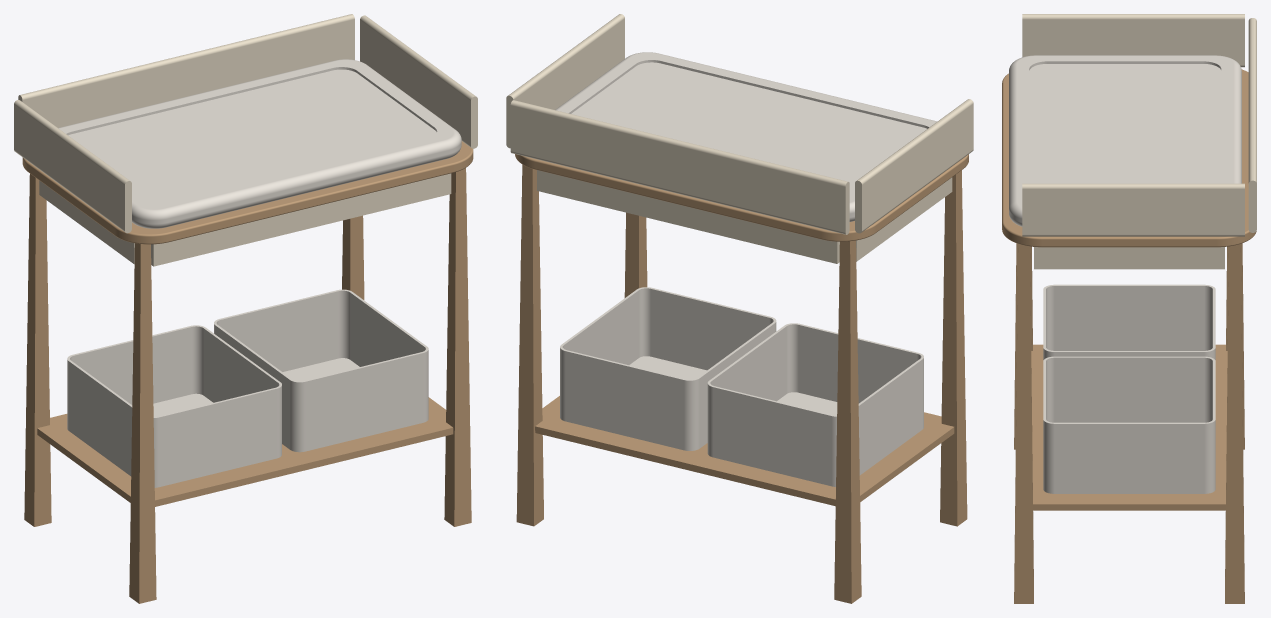
The picture shows the model from 3 angles, left to right: view 1: azimuth 30°, elevation 25°; view 2: azimuth 150°, elevation 25°; view 3: azimuth 270°, elevation 25°; orthographic projection.
Visible parts, largest first — view 1: fabric.3, fabric.1, fabric.2, body.5, wood.6, wood.5, wood.4, wood.3, wood.1, body.7, body.2, body.6 (+2 smaller); view 2: fabric.3, fabric.1, fabric.2, body.5, wood.6, wood.3, wood.2, wood.5, body.7, body.1, wood.1, body.6 (+2 smaller); view 3: fabric.3, fabric.2, fabric.1, body.6, body.7, wood.6, wood.2, wood.4, wood.1, body.3, body.5, wood.3 (+1 smaller).
Part boxes in pixels (bbox=[...]): fabric.3: bbox=[58, 59, 461, 228]; fabric.1: bbox=[67, 325, 281, 487]; fabric.2: bbox=[214, 289, 428, 452]; body.5: bbox=[18, 14, 354, 127]; wood.6: bbox=[37, 397, 453, 506]; wood.5: bbox=[129, 243, 156, 603]; wood.4: bbox=[444, 168, 471, 526]; wood.3: bbox=[24, 174, 51, 526]; wood.1: bbox=[22, 141, 473, 244]; body.7: bbox=[14, 100, 131, 233]; body.2: bbox=[151, 173, 451, 266]; body.6: bbox=[360, 15, 477, 148]; fabric.3: bbox=[555, 52, 937, 221]; fabric.1: bbox=[707, 323, 923, 486]; fabric.2: bbox=[560, 287, 776, 450]; body.5: bbox=[510, 100, 849, 234]; wood.6: bbox=[535, 396, 954, 506]; wood.3: bbox=[834, 240, 861, 603]; wood.2: bbox=[516, 164, 543, 526]; wood.5: bbox=[940, 170, 967, 526]; body.7: bbox=[855, 99, 973, 233]; body.1: bbox=[537, 170, 839, 263]; wood.1: bbox=[515, 154, 968, 241]; body.6: bbox=[506, 14, 624, 148]; fabric.3: bbox=[1009, 55, 1241, 226]; fabric.2: bbox=[1043, 356, 1215, 493]; fabric.1: bbox=[1043, 284, 1215, 359]; body.6: bbox=[1022, 183, 1244, 236]; body.7: bbox=[1022, 14, 1244, 67]; wood.6: bbox=[1031, 344, 1227, 510]; wood.2: bbox=[1225, 244, 1244, 603]; wood.4: bbox=[1014, 244, 1033, 603]; wood.1: bbox=[1002, 69, 1256, 247]; body.3: bbox=[1034, 247, 1224, 269]; body.5: bbox=[1248, 18, 1256, 232]; wood.3: bbox=[1226, 243, 1244, 449].
Bounding box in the file's own units: 0.9 × 1.03 × 0.56.
